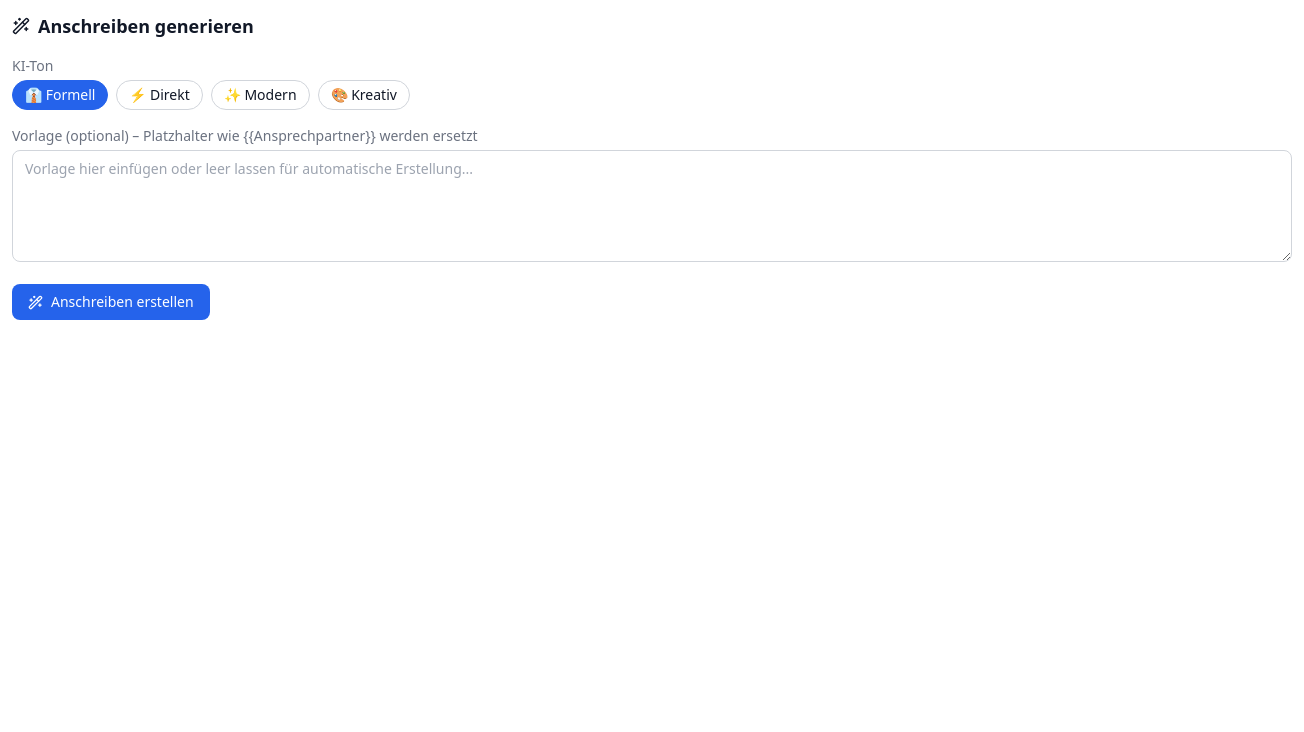
CoverLetter › generiert ein Anschreiben und zeigt das Ergebnis an
What coordinates should you click on to do the following:
click the button "Anschreiben erstellen"
I would click on:
 (111, 302)
Its box is [12,284,210,320].
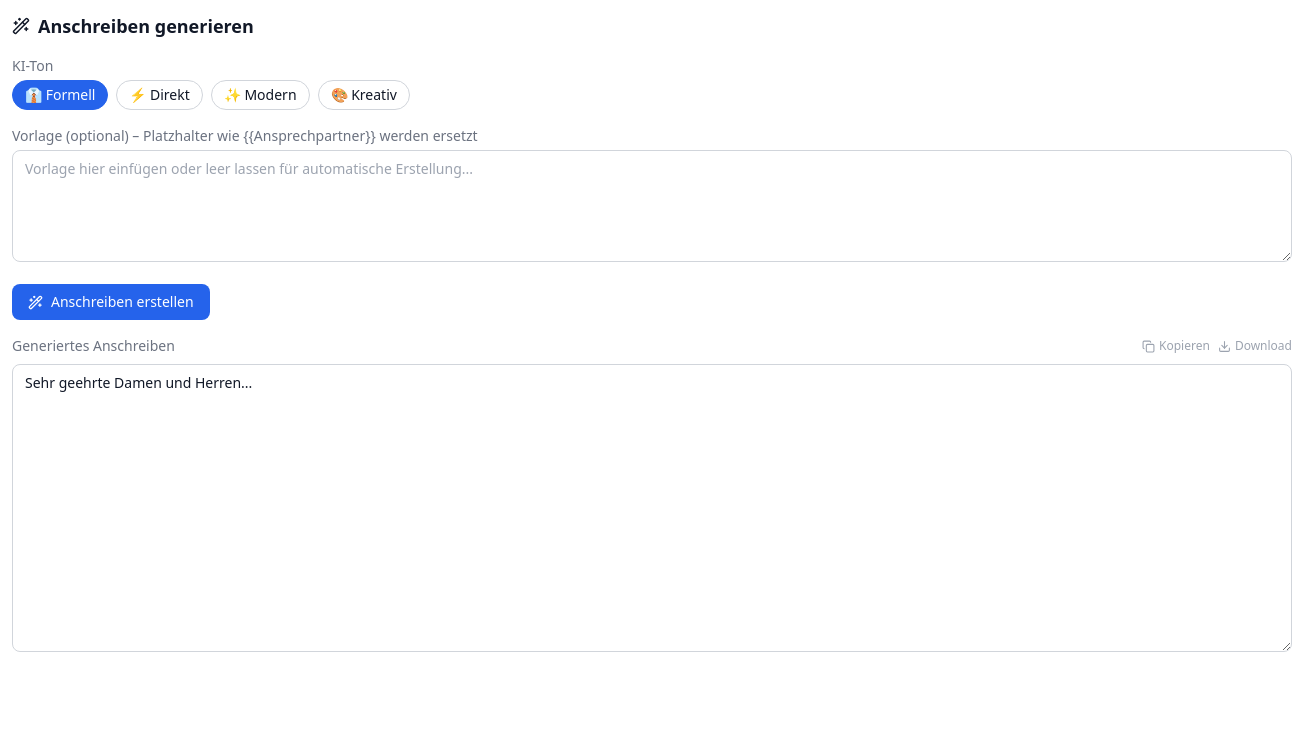
expect the text box named "Generiertes Anschreiben (bearbeitbar)" holds "Sehr geehrte Damen und Herren...": met, box [12,364,1292,652]
